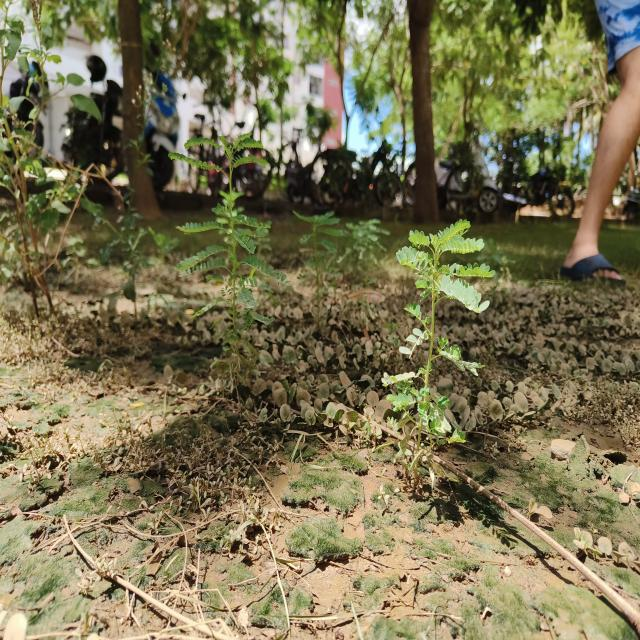weed: (396, 222, 497, 445), (174, 191, 280, 351)
